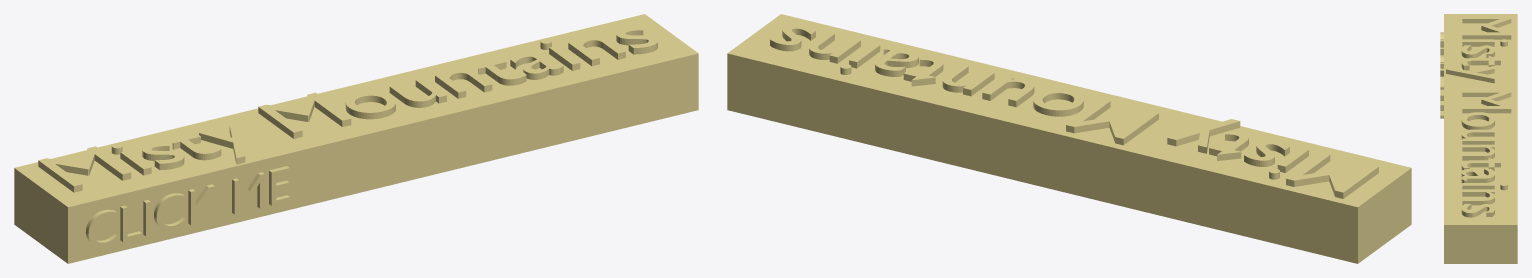
The model's file is mist.glb.
The picture shows the model from 3 angles, left to right: view 1: azimuth 30°, elevation 25°; view 2: azimuth 150°, elevation 25°; view 3: azimuth 270°, elevation 25°; orthographic projection. The views are drawn at different scales.
Visible parts, largest first — view 1: 文本.021; view 2: 文本.021; view 3: 文本.021.
Boxes of the visible parts, x1,y1,x2,y2 form: 文本.021: [14, 14, 698, 263]; 文本.021: [727, 14, 1411, 263]; 文本.021: [1440, 14, 1517, 263].
Bounding box in the file's own units: 6.53 × 0.624 × 1.01.
